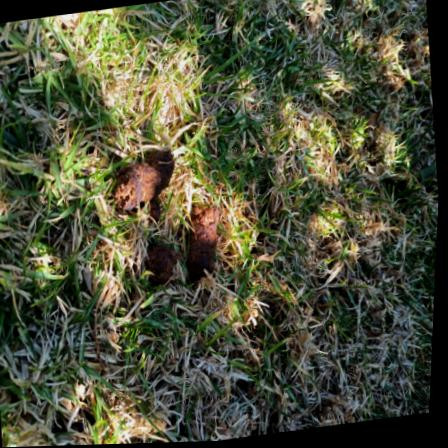dog-poop: (102, 132, 235, 307)
